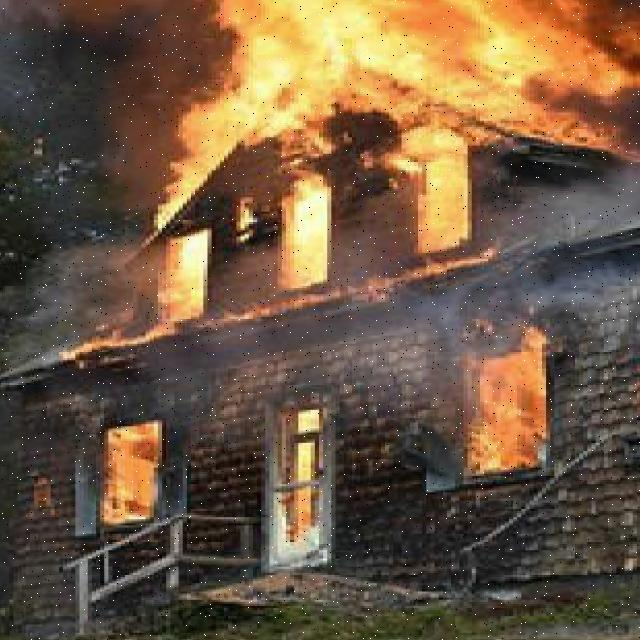fire: (162, 0, 640, 160), (453, 344, 561, 474), (61, 416, 168, 527), (269, 160, 344, 292), (164, 158, 216, 321), (389, 160, 470, 263), (55, 327, 174, 369)
smoke: (500, 170, 640, 327)
